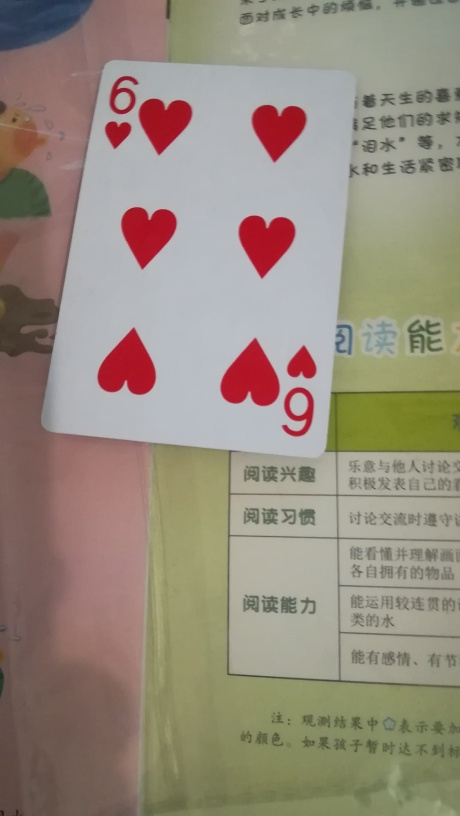hx 6: (38, 57, 354, 467)
